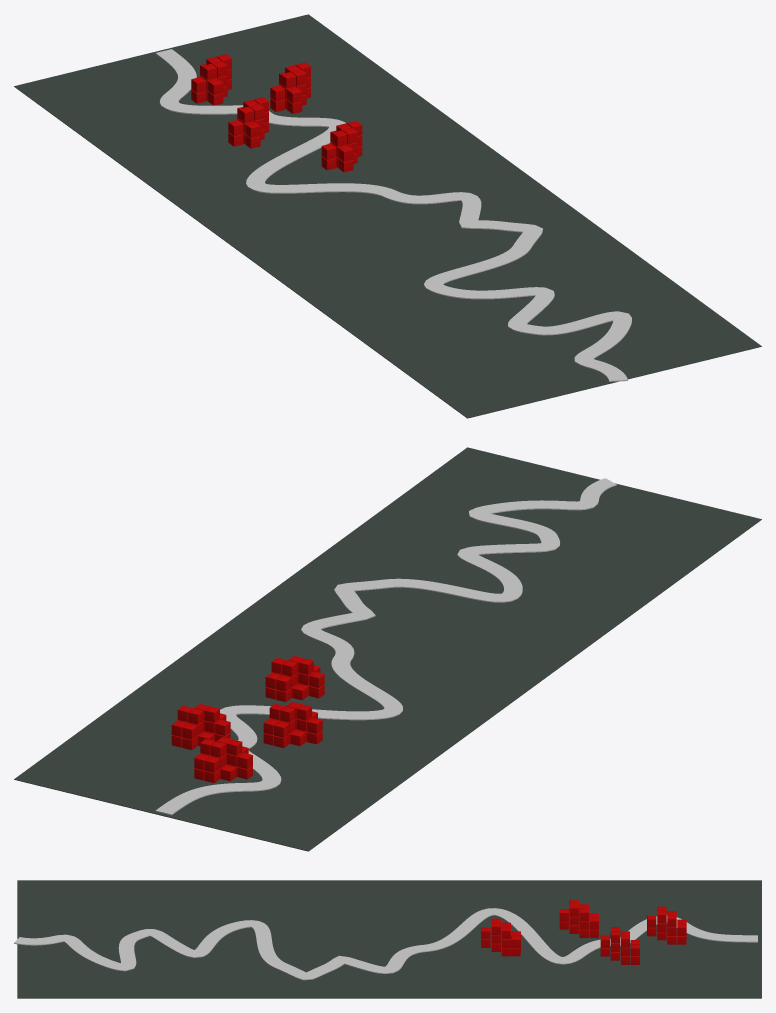
The model's file is escena_concajas.fbx.
3 views of the same model, one above another, from view 1: azimuth 30°, elevation 25°; view 2: azimuth 150°, elevation 25°; view 3: azimuth 270°, elevation 25° (orthographic). The views are drawn at different scales.
Parts seen in each view (by area): view 1: SUELO, Recorrido; view 2: SUELO, Recorrido; view 3: SUELO, Recorrido.
Part boxes in pixels (x1,y1,x2,y2): SUELO: (14,14,761,418); Recorrido: (155,49,631,381); SUELO: (14,447,761,851); Recorrido: (156,478,616,814); SUELO: (17,880,761,998); Recorrido: (14,908,757,980).
Bounding box in the file's own units: 3000 × 308 × 8035.
